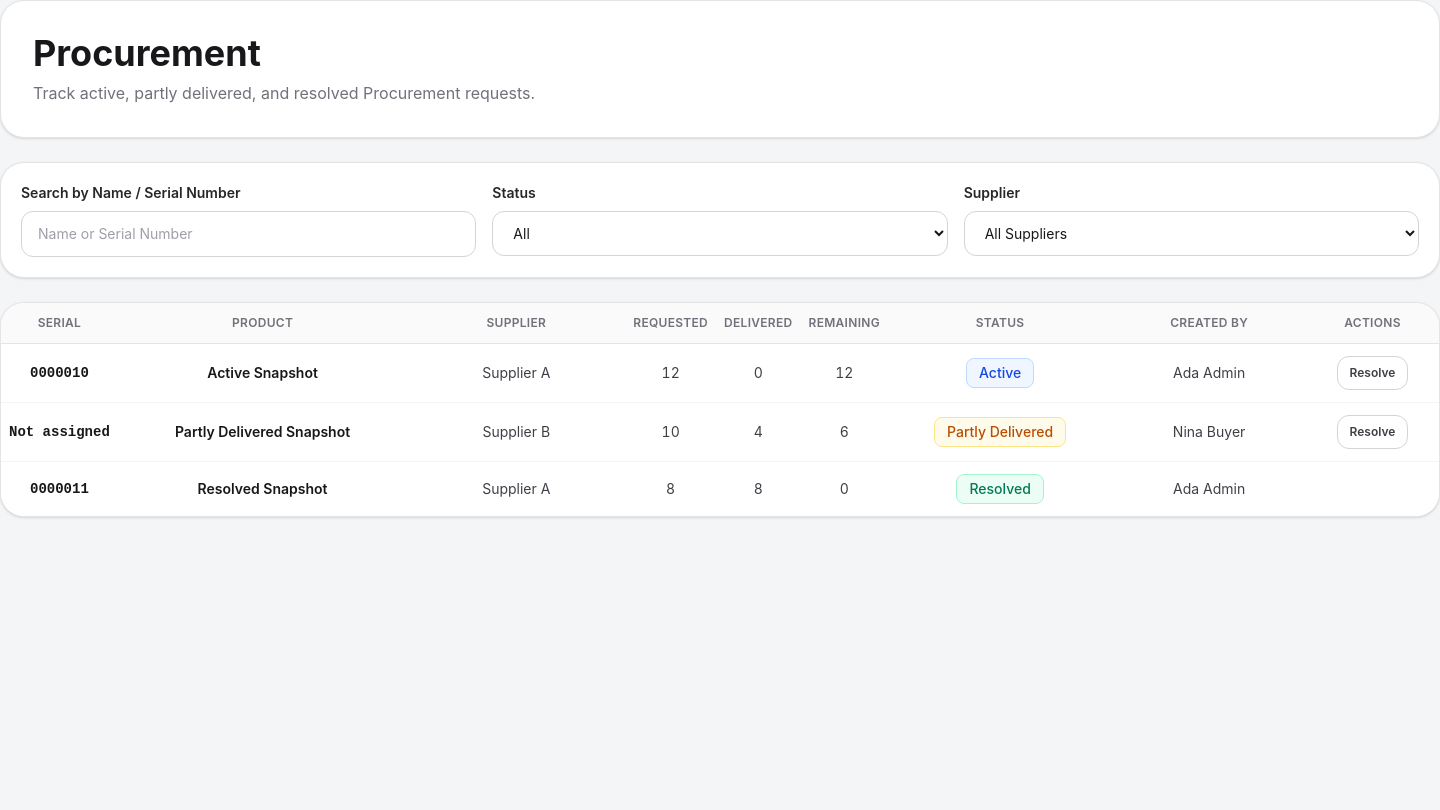
it: ProcurementPage › shows a safe Resolve failure and keeps confirmation open
This screenshot has width=1440, height=810.
Step 1. Click the button "Resolve" in the row of "0000010" → (1372, 373), box [1337,356,1408,390]
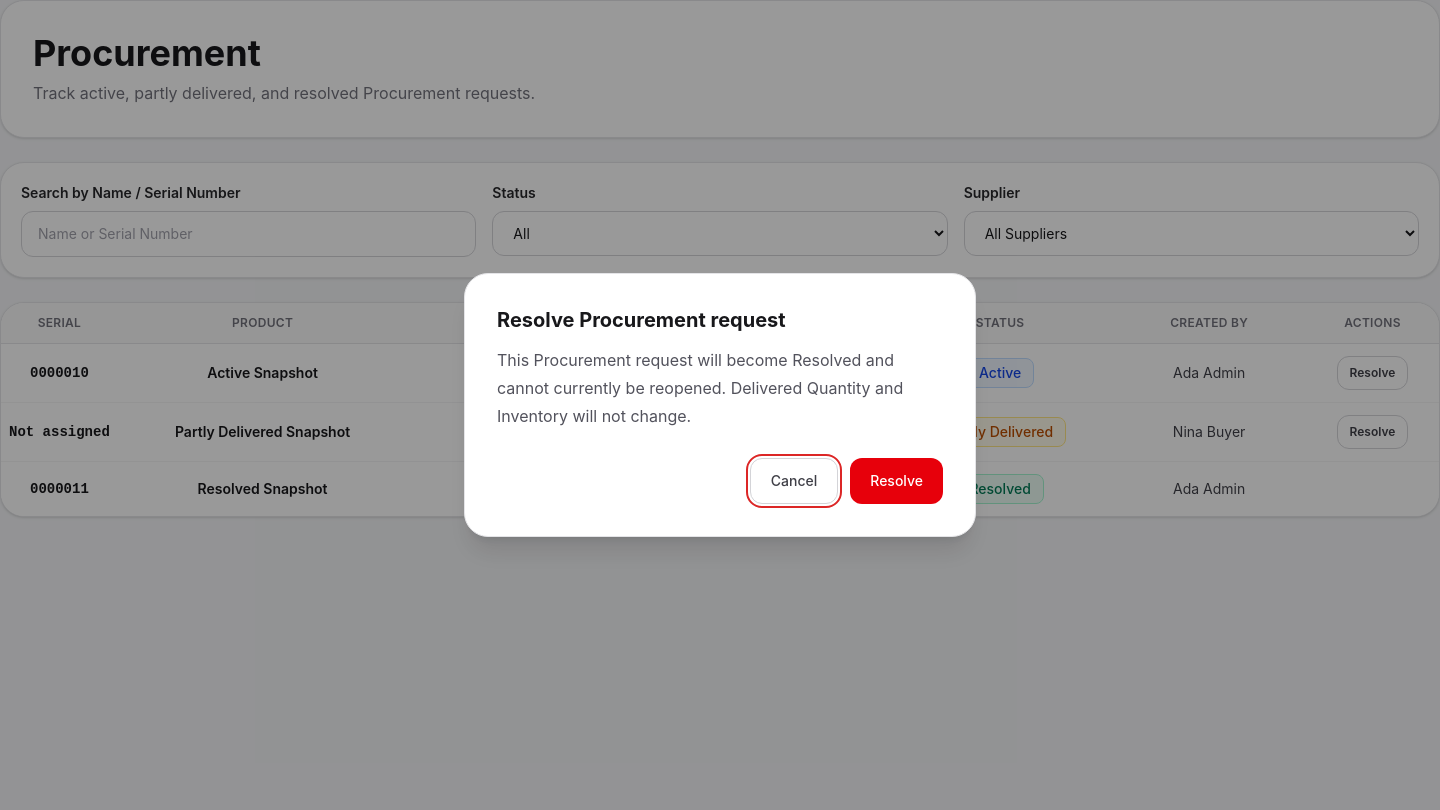
Step 2. Click the button "Resolve" → (897, 481), box [850,458,943,504]
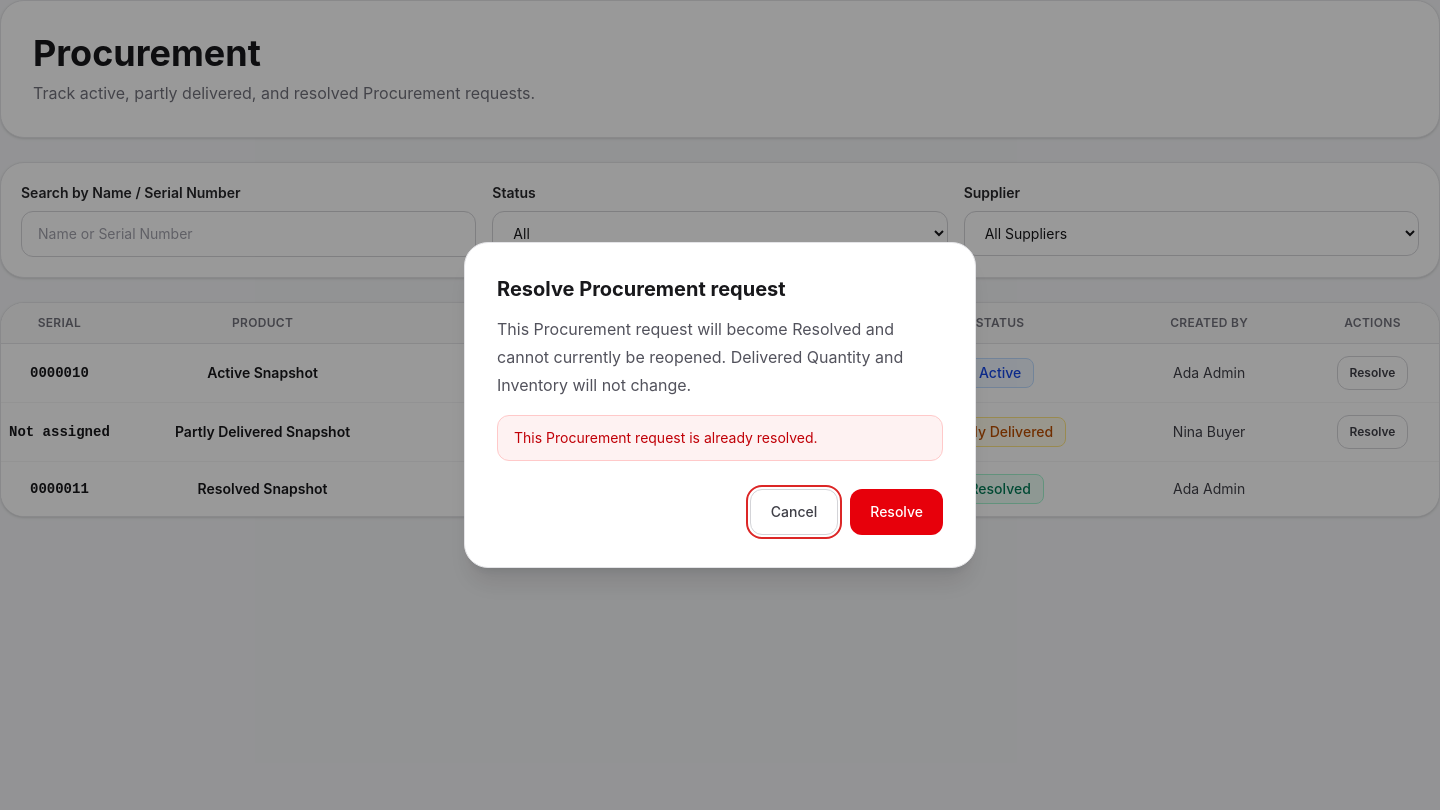
Check: the dialog "Resolve Procurement request" is shown, box [464,242,976,568]
Check: the message reads "This Procurement request is already resolved.", box [514,429,818,446]
